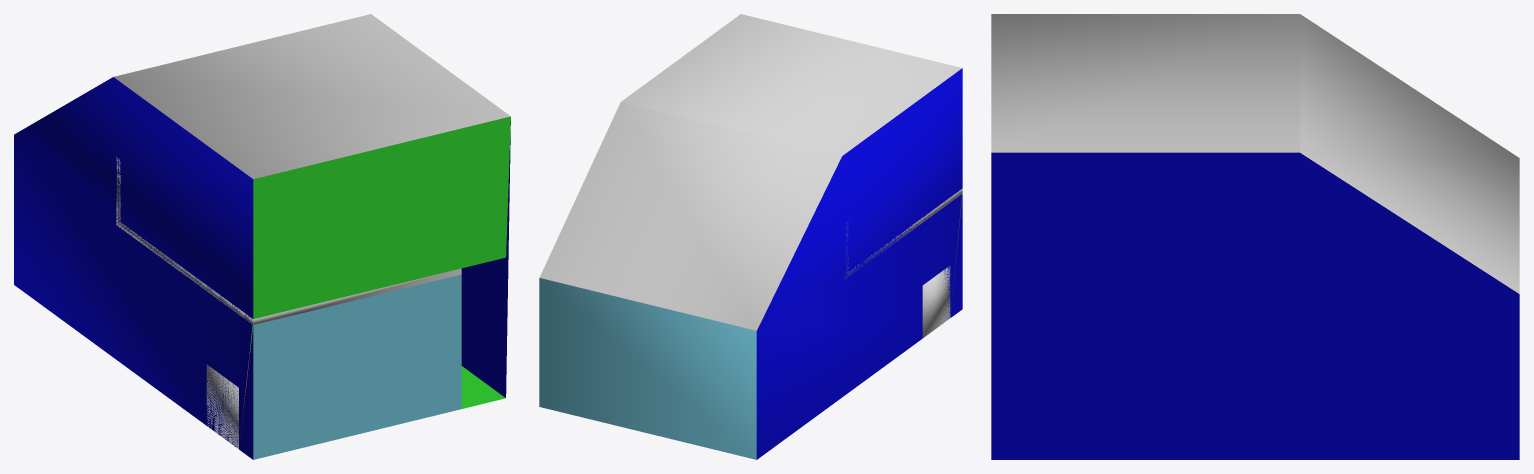
File: Apartment1.fbx
The picture shows the model from 3 angles, left to right: view 1: azimuth 30°, elevation 25°; view 2: azimuth 150°, elevation 25°; view 3: azimuth 270°, elevation 25°; orthographic projection. The views are drawn at different scales.
Visible parts, largest first — view 1: Plane.001; view 2: Plane.001; view 3: Plane.001.
Boxes of the visible parts, x1,y1,x2,y2 form: Plane.001: (14,14,510,459); Plane.001: (539,14,962,459); Plane.001: (991,14,1519,459).
Size of the model in its own units: 1601 by 1667 by 2575.
